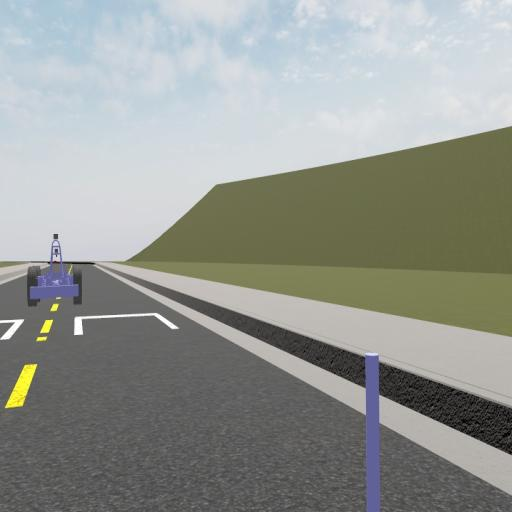ERP-42: (26, 234, 82, 305)
